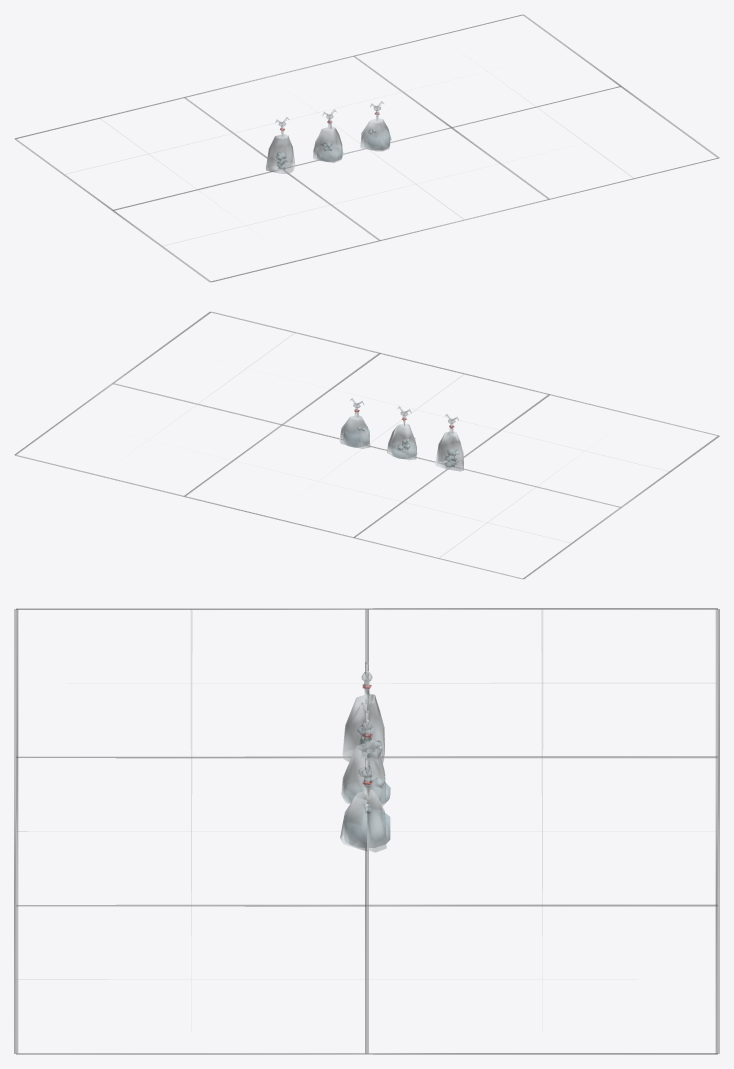
Rendered from bich_da.glb.
3 renders of one model, top to bottom at view 1: azimuth 30°, elevation 25°; view 2: azimuth 150°, elevation 25°; view 3: azimuth 270°, elevation 25°, orthographic. The views are drawn at different scales.
Parts seen in each view (by area): view 1: w_nuoc_tan, w_tui_day, w_tui_nua, w_tui_tan; view 2: w_nuoc_tan, w_tui_day, w_tui_nua, w_tui_tan; view 3: w_nuoc_tan, w_tui_tan, w_tui_day, w_tui_nua.
Boxes of the visible parts, x1,y1,x2,y2 form: w_nuoc_tan: (14, 14, 719, 282); w_tui_day: (265, 117, 295, 173); w_tui_nua: (313, 109, 343, 162); w_tui_tan: (360, 101, 391, 151); w_nuoc_tan: (14, 311, 719, 579); w_tui_day: (435, 414, 463, 471); w_tui_nua: (387, 406, 416, 460); w_tui_tan: (339, 398, 370, 448); w_nuoc_tan: (14, 608, 719, 1054); w_tui_tan: (340, 758, 386, 852); w_tui_day: (342, 662, 384, 763); w_tui_nua: (341, 710, 385, 806).
Size of the model in its own units: 3.01 by 0.2874 by 2.01.
